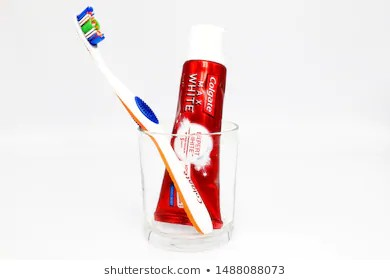toothbrush: (70, 2, 141, 135)
